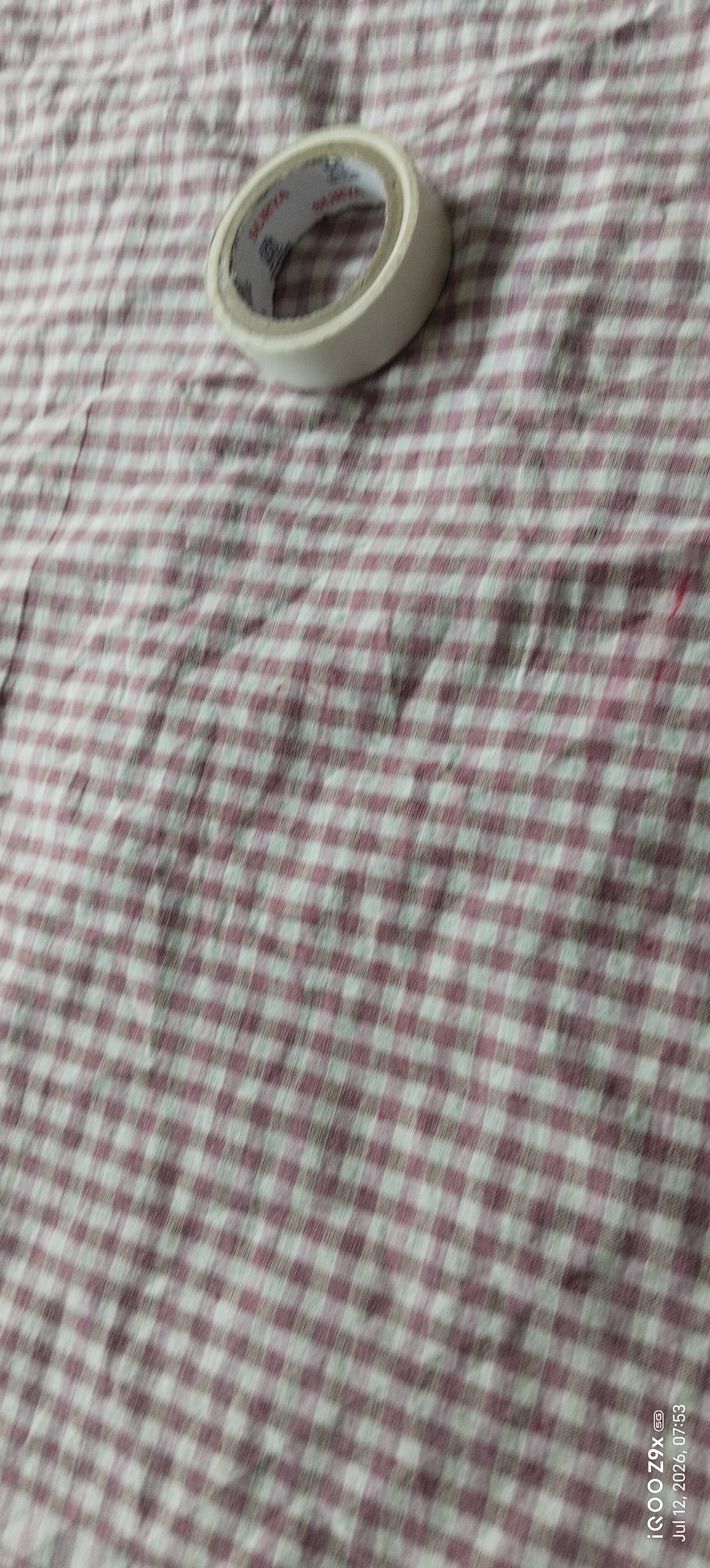tape_roll: (188, 128, 475, 403)
